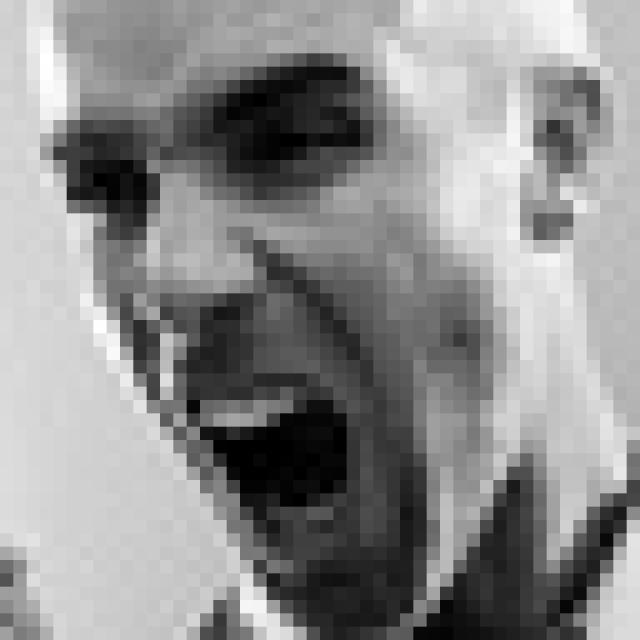angry: (62, 47, 456, 586)
